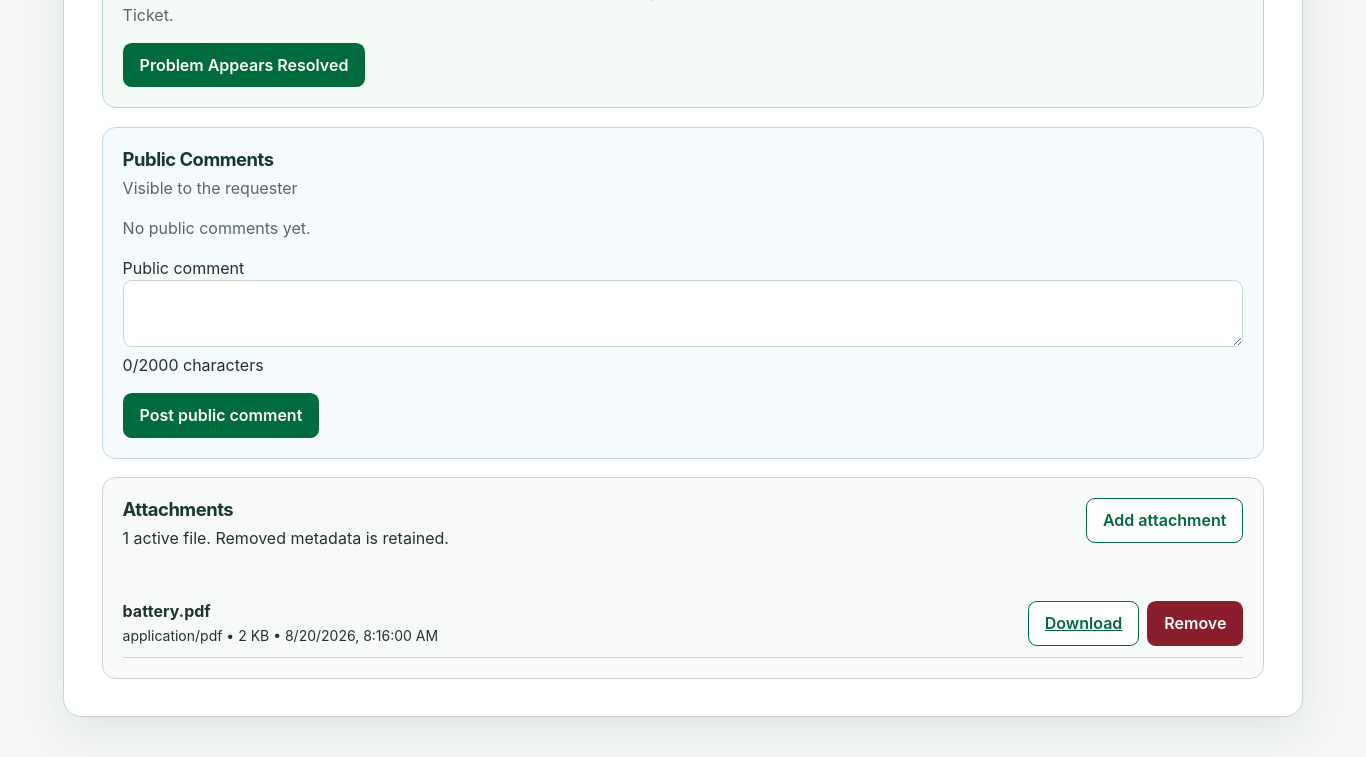
Test case: Ticket Detail › shows owned Ticket fields read-only and soft-removes an attachment with a reason
The width and height of the screenshot is (1366, 757).
(page scrolled)
Check: the link "Download" is shown, box top-left (1028, 601), bottom-right (1139, 646)
Click the button "Remove". click: click(1195, 623)
box: top-left (1147, 601), bottom-right (1243, 646)
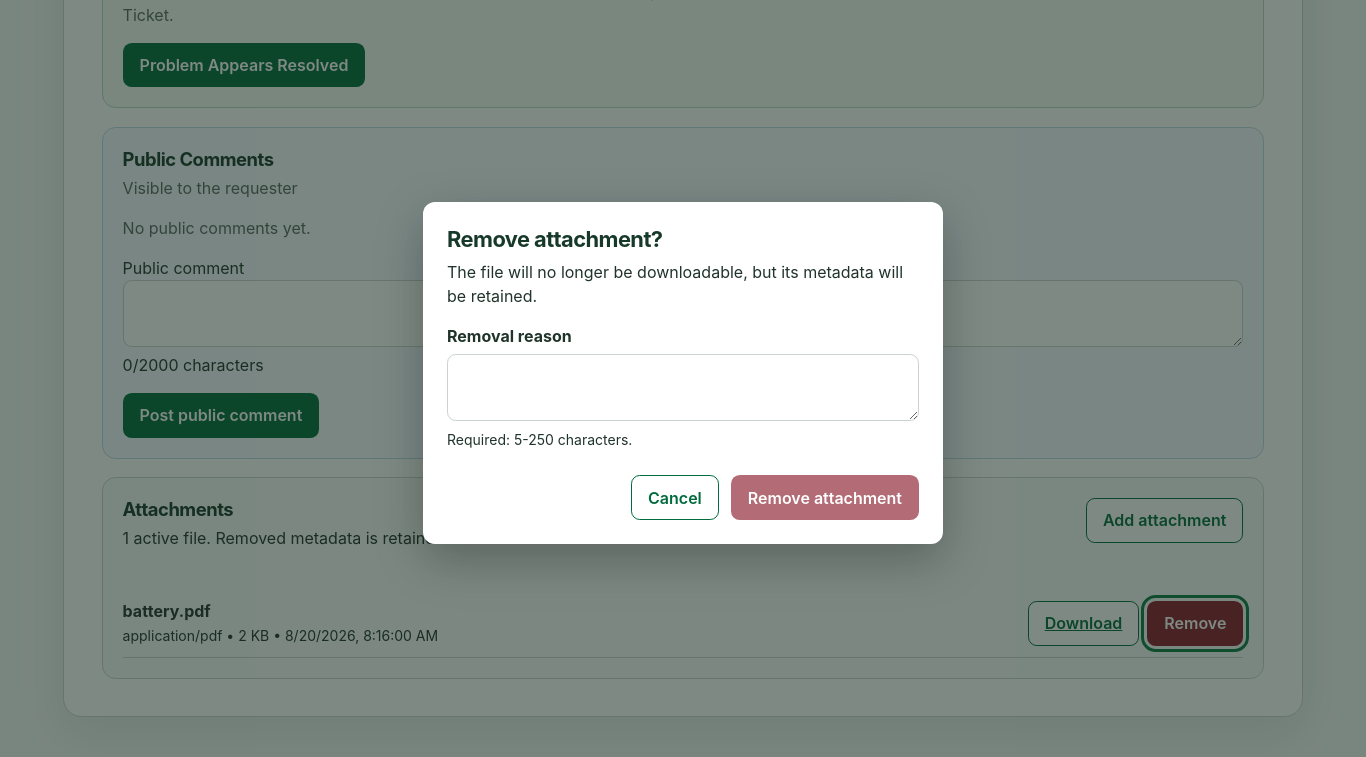
Check: the button "Remove attachment" is disabled, box top-left (731, 475), bottom-right (919, 520)
Type "Contains private information" into the text box labelled "Removal reason". click: (683, 388)
box: top-left (447, 354), bottom-right (919, 421)
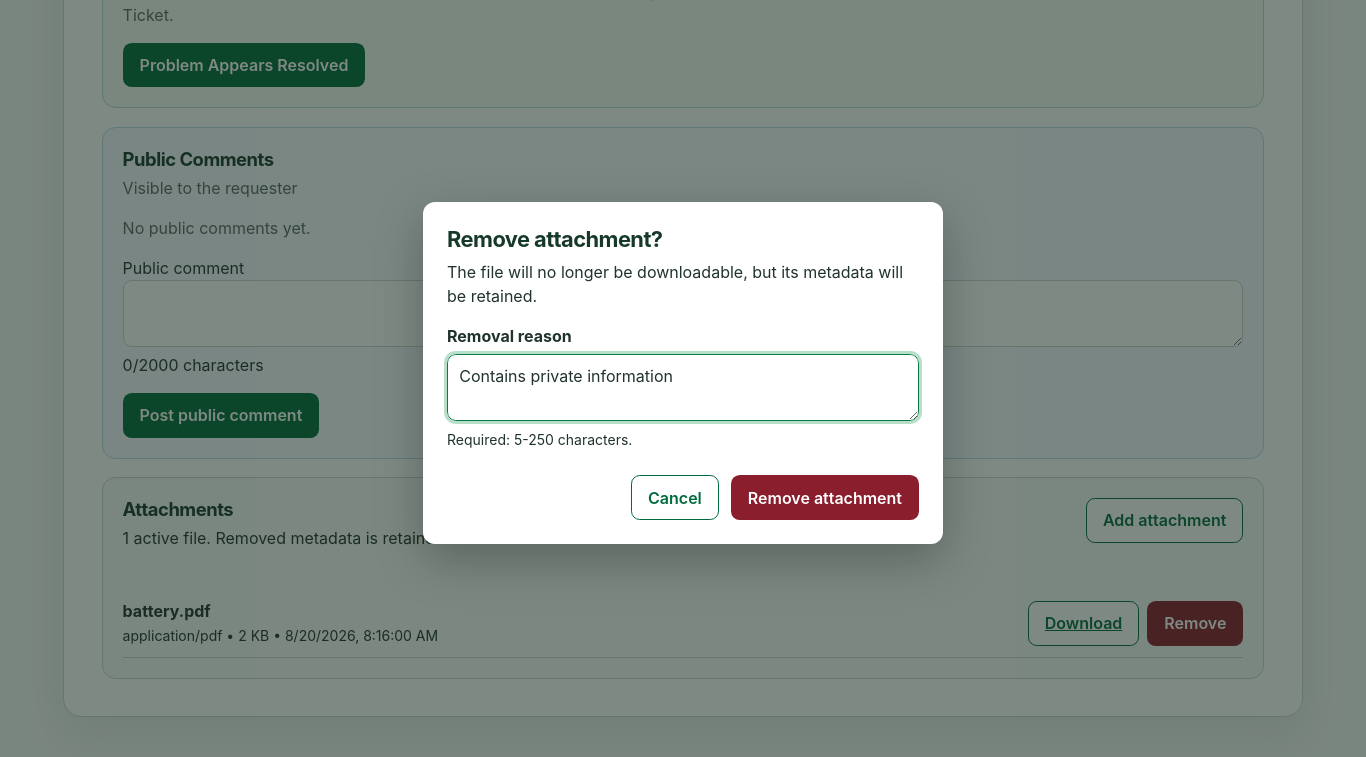
Click the button "Remove attachment". click: click(825, 498)
box: top-left (731, 475), bottom-right (919, 520)
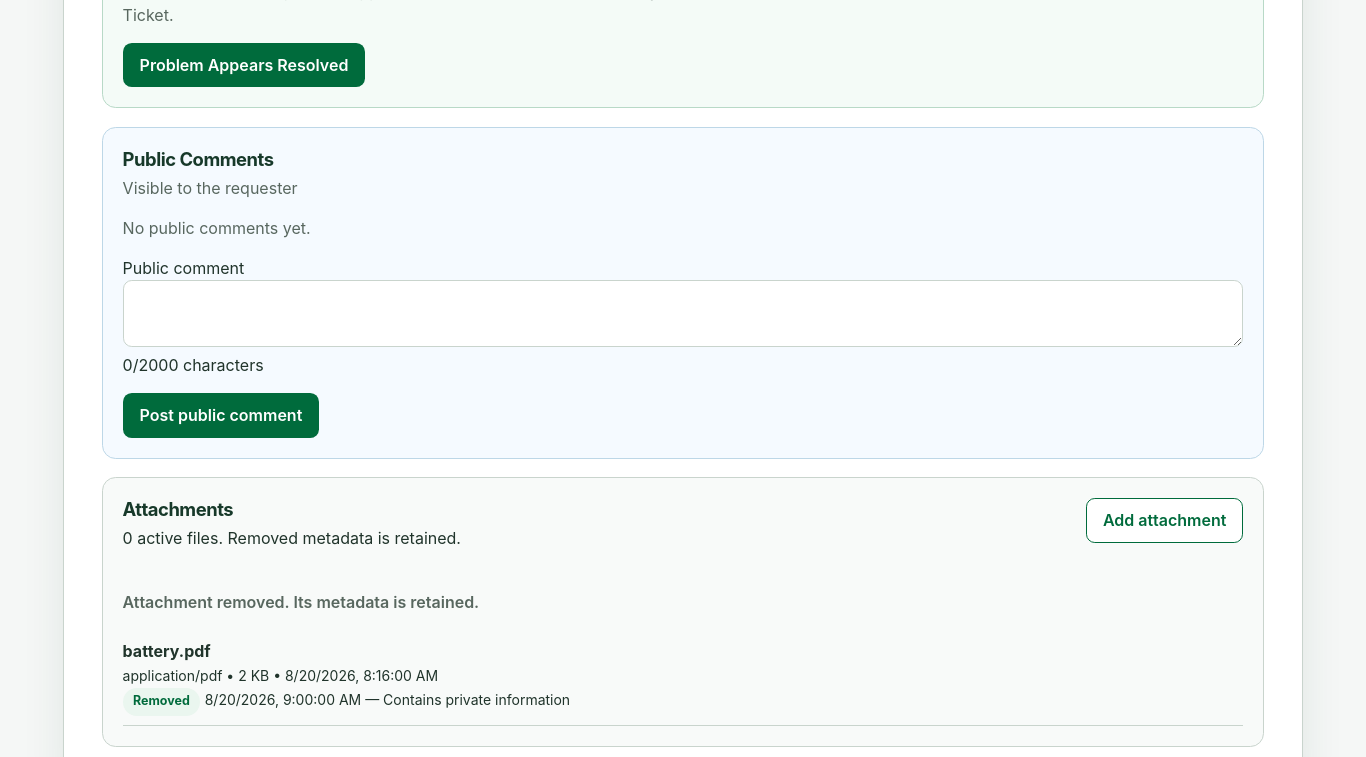
Check: the text "Removed" is shown, box top-left (123, 688), bottom-right (200, 716)
Check: the link "Download" is gone
